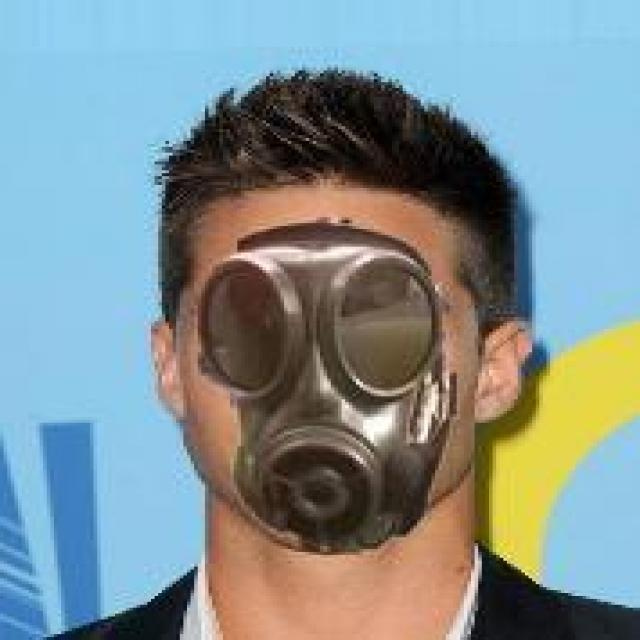mask: (115, 56, 554, 552)
